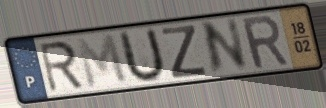M: (73, 32, 131, 91)
N: (200, 16, 251, 78)
R: (238, 13, 292, 72), (37, 39, 87, 95)
U: (118, 26, 167, 86)
Z: (159, 23, 209, 81)
